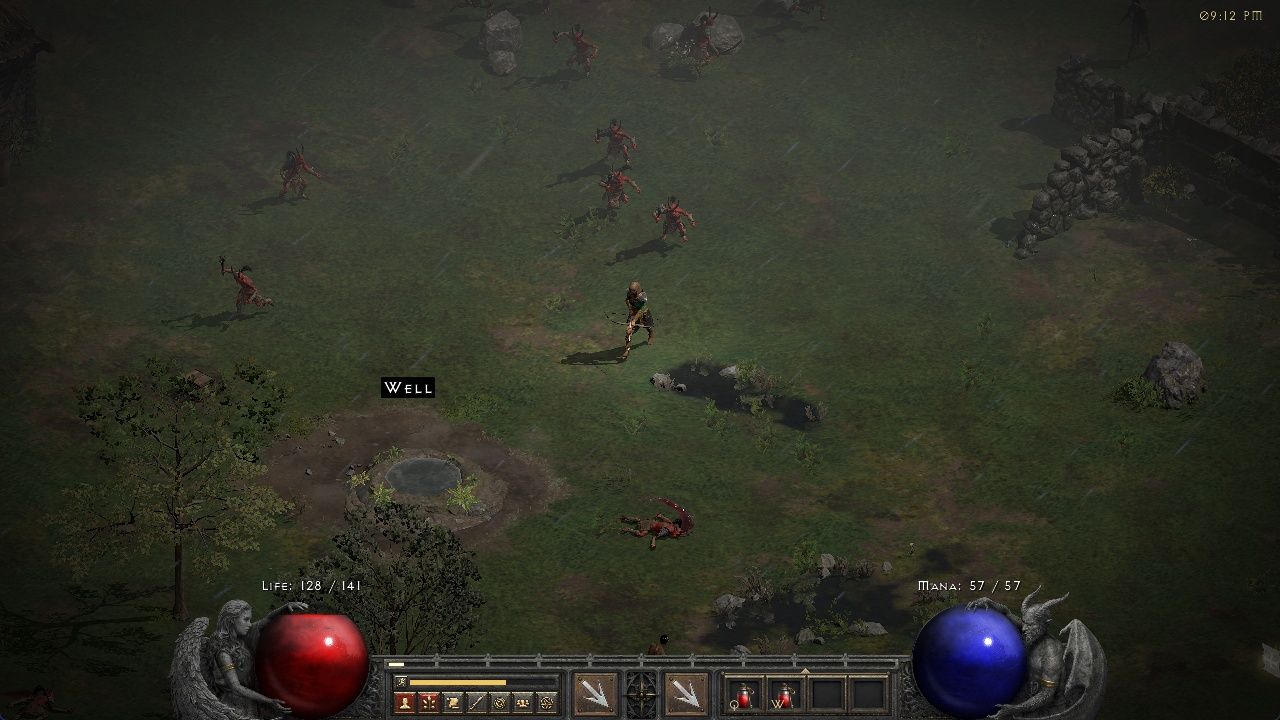fallen: (212, 254, 275, 317), (686, 8, 737, 81), (271, 144, 326, 202), (549, 22, 602, 78), (589, 116, 641, 161), (653, 197, 699, 244), (596, 165, 638, 215)
